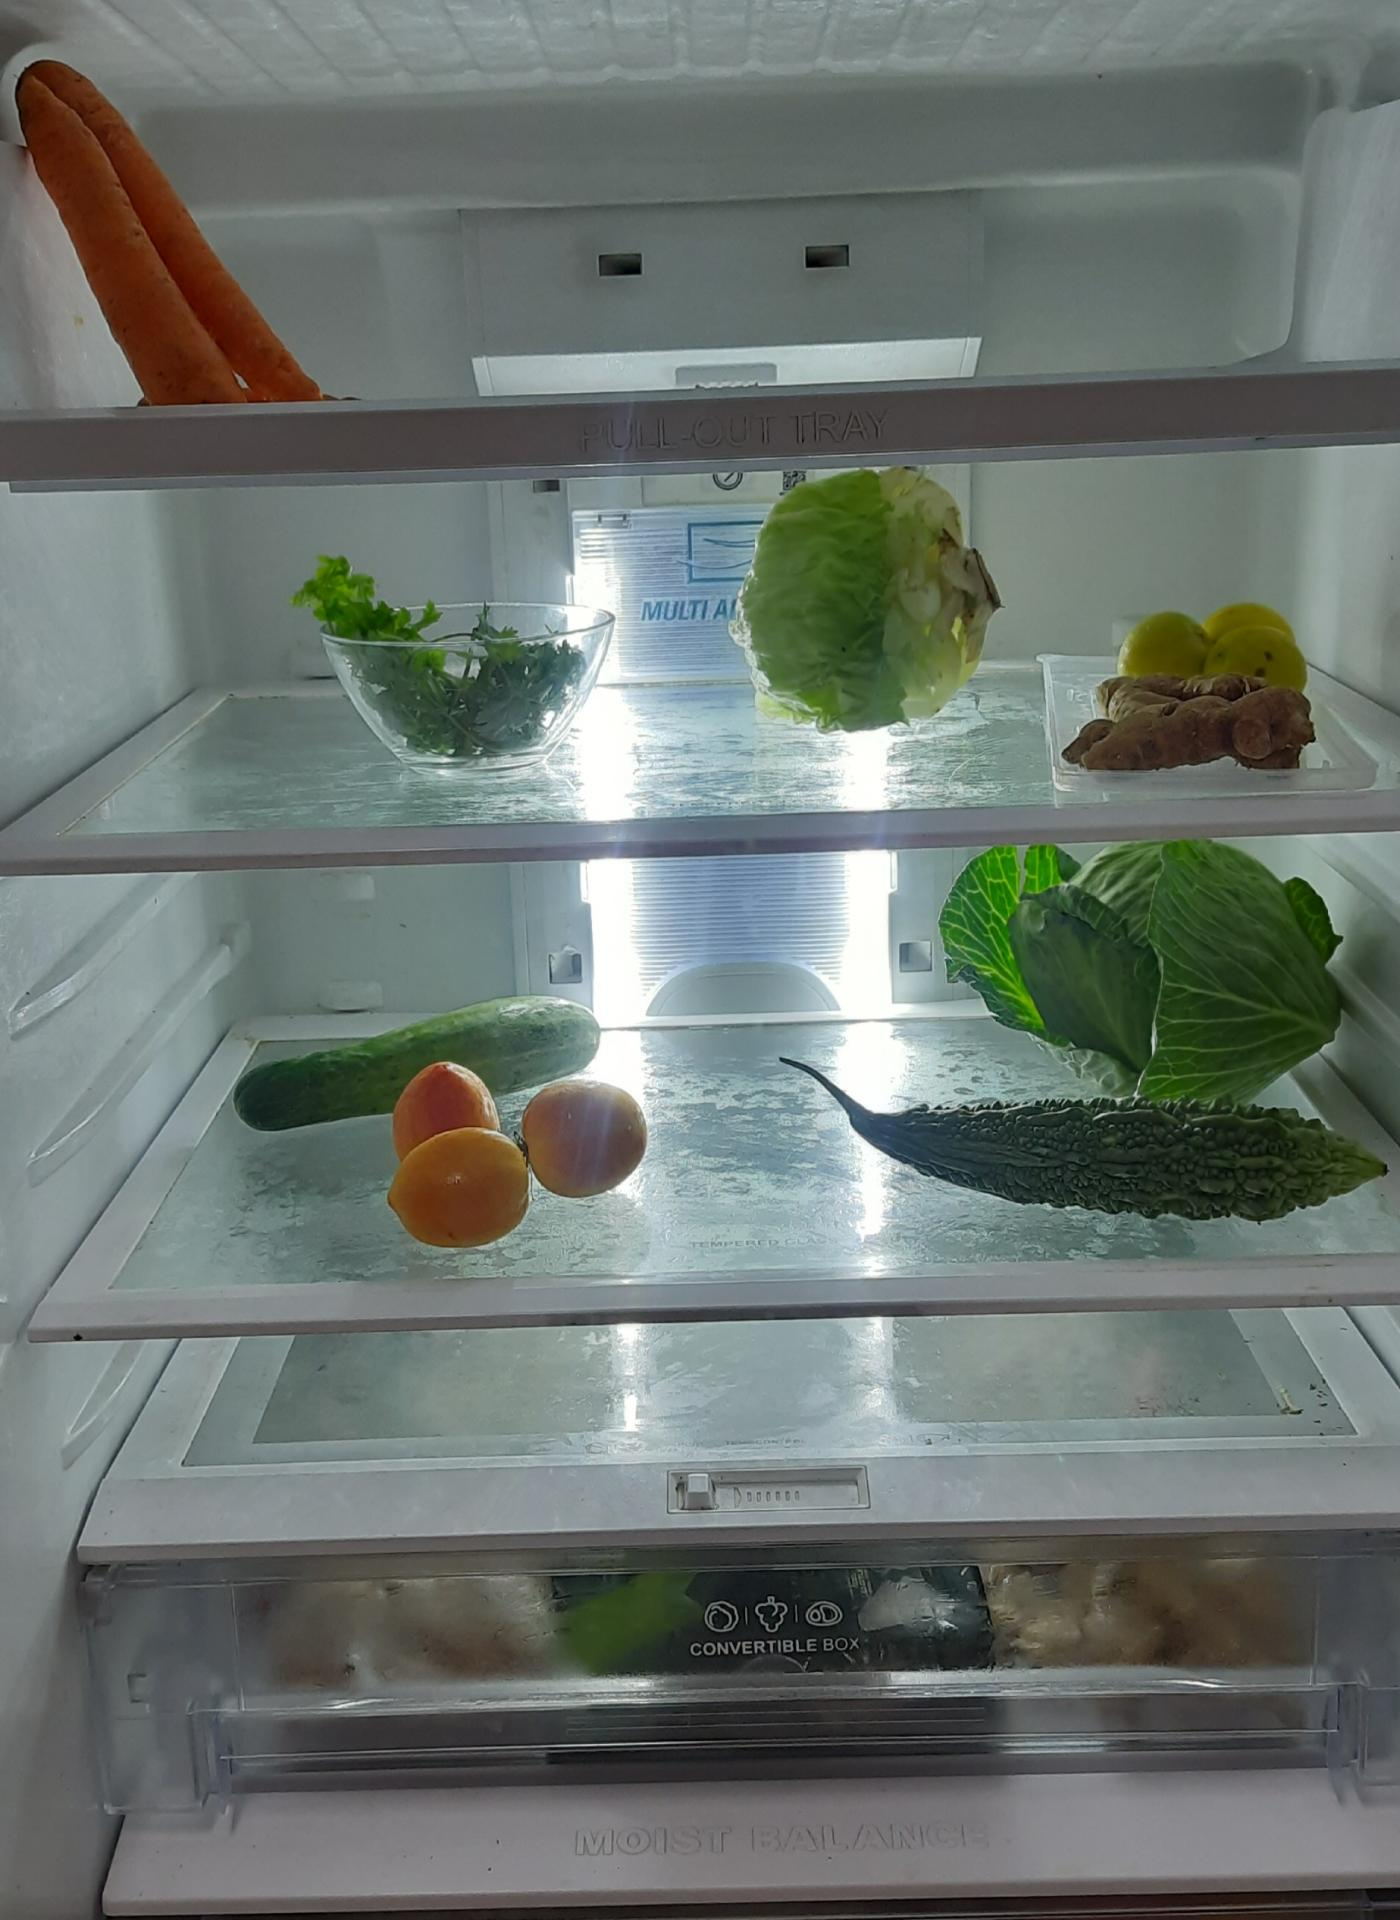bitter gourd: (808, 1087, 1399, 1216)
cabbage: (935, 845, 1348, 1097)
carrots: (6, 34, 319, 397)
coriander: (322, 553, 590, 754)
cucumber: (233, 997, 610, 1137)
ginger: (1062, 671, 1315, 787)
lemon: (1111, 607, 1311, 680)
lettuce: (728, 481, 1006, 745)
tomato: (380, 1064, 647, 1242)
